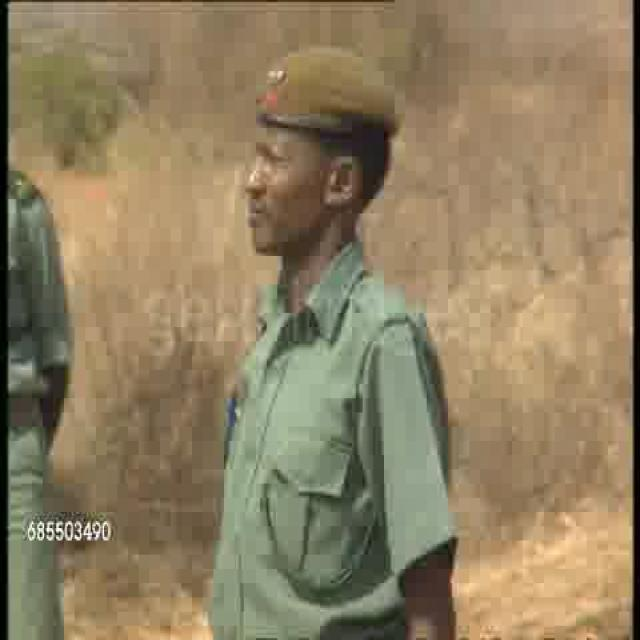poacher: (186, 32, 456, 576)
